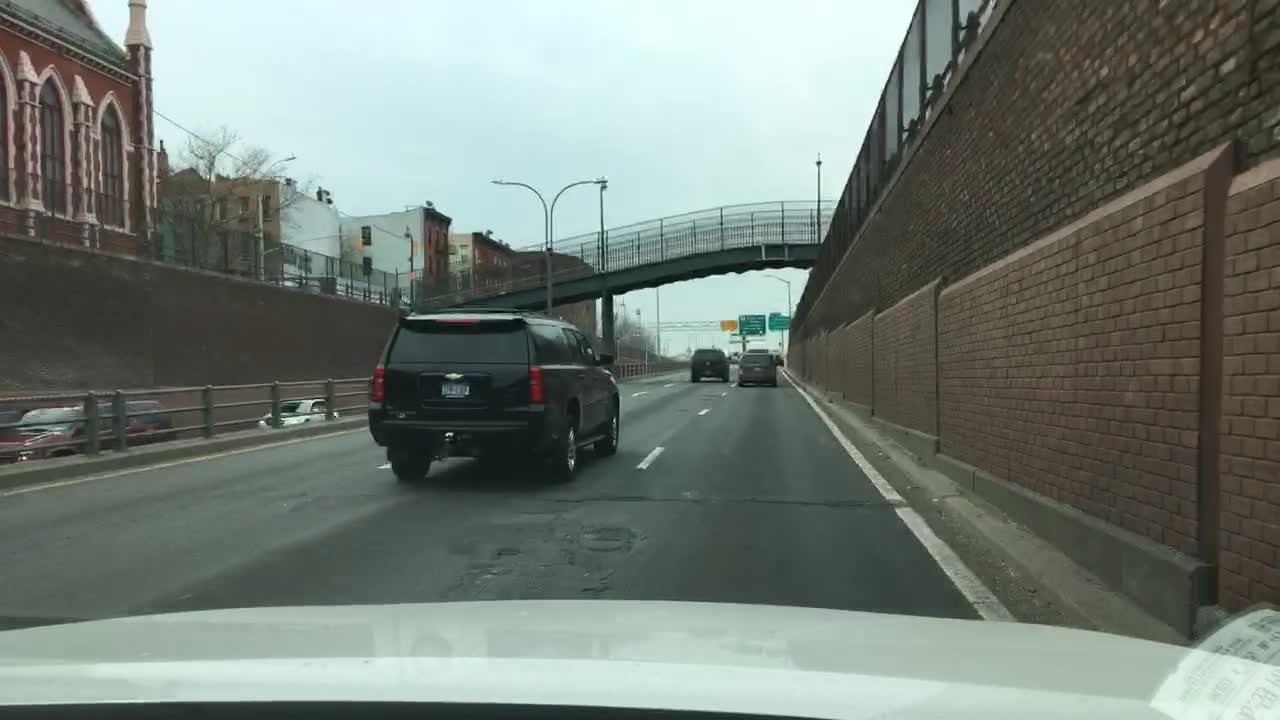car: (366, 308, 622, 481), (0, 400, 116, 462), (91, 400, 182, 440), (259, 395, 339, 426), (688, 346, 731, 381), (738, 351, 778, 386)
traffic light: (361, 255, 374, 277), (361, 223, 373, 244)
traffic sign: (736, 315, 766, 336), (769, 311, 791, 329), (722, 320, 736, 331)
